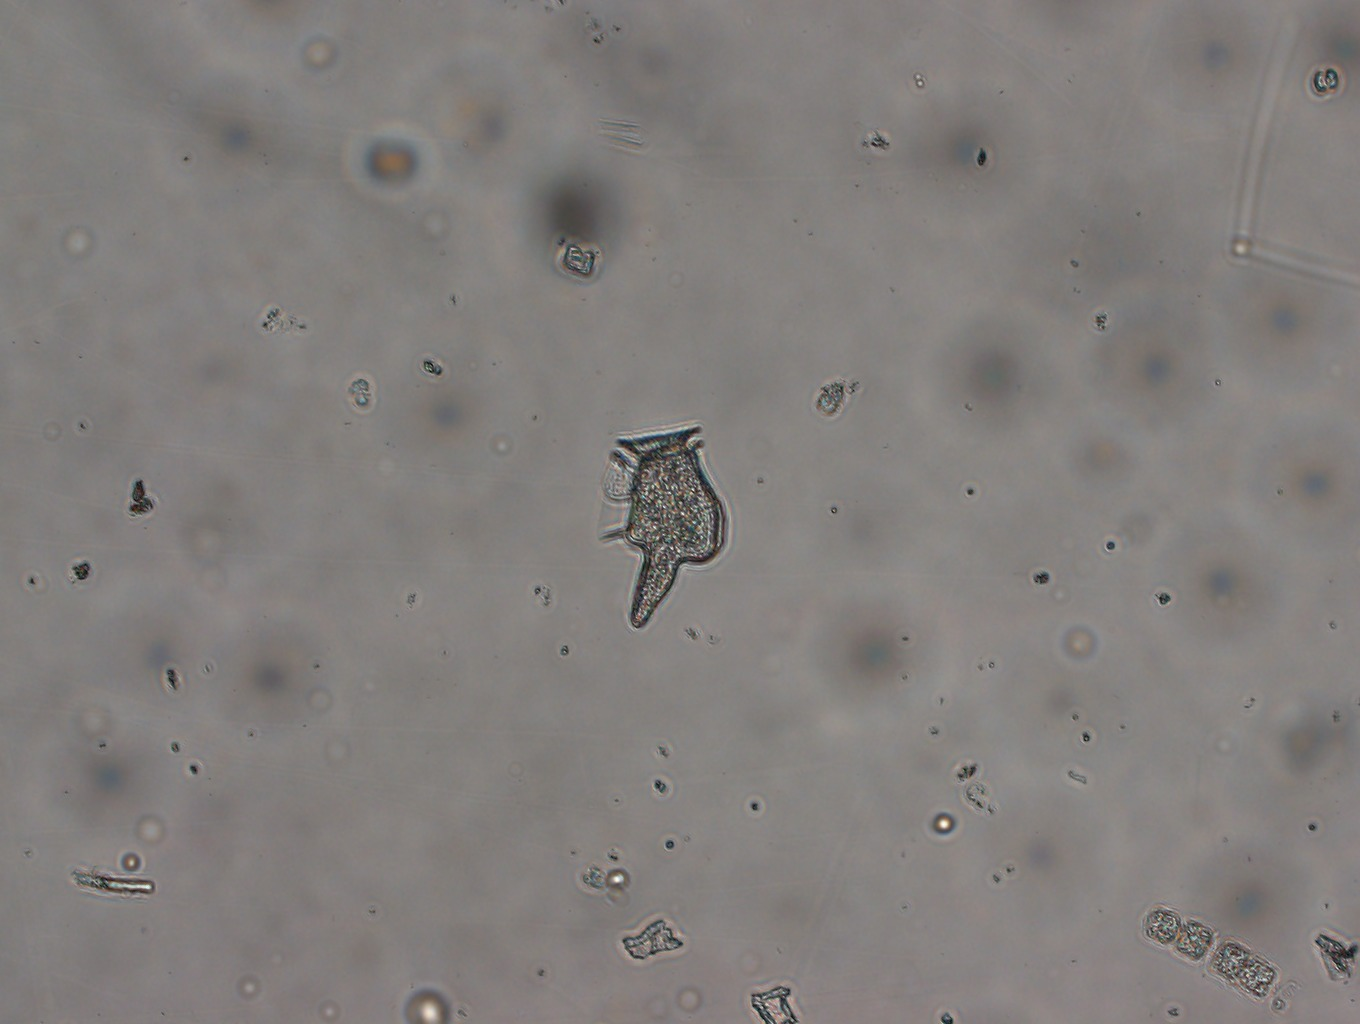detonula pumila: (1129, 888, 1282, 1009)
dinophysis caudata: (589, 413, 734, 632)
